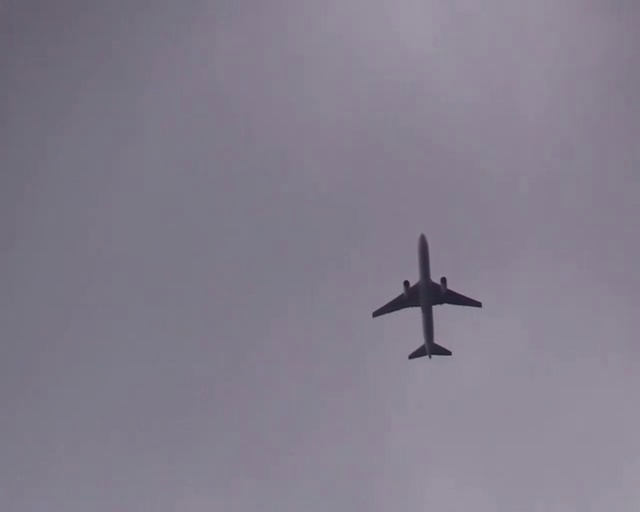AIRPLANE: (372, 232, 482, 360)
